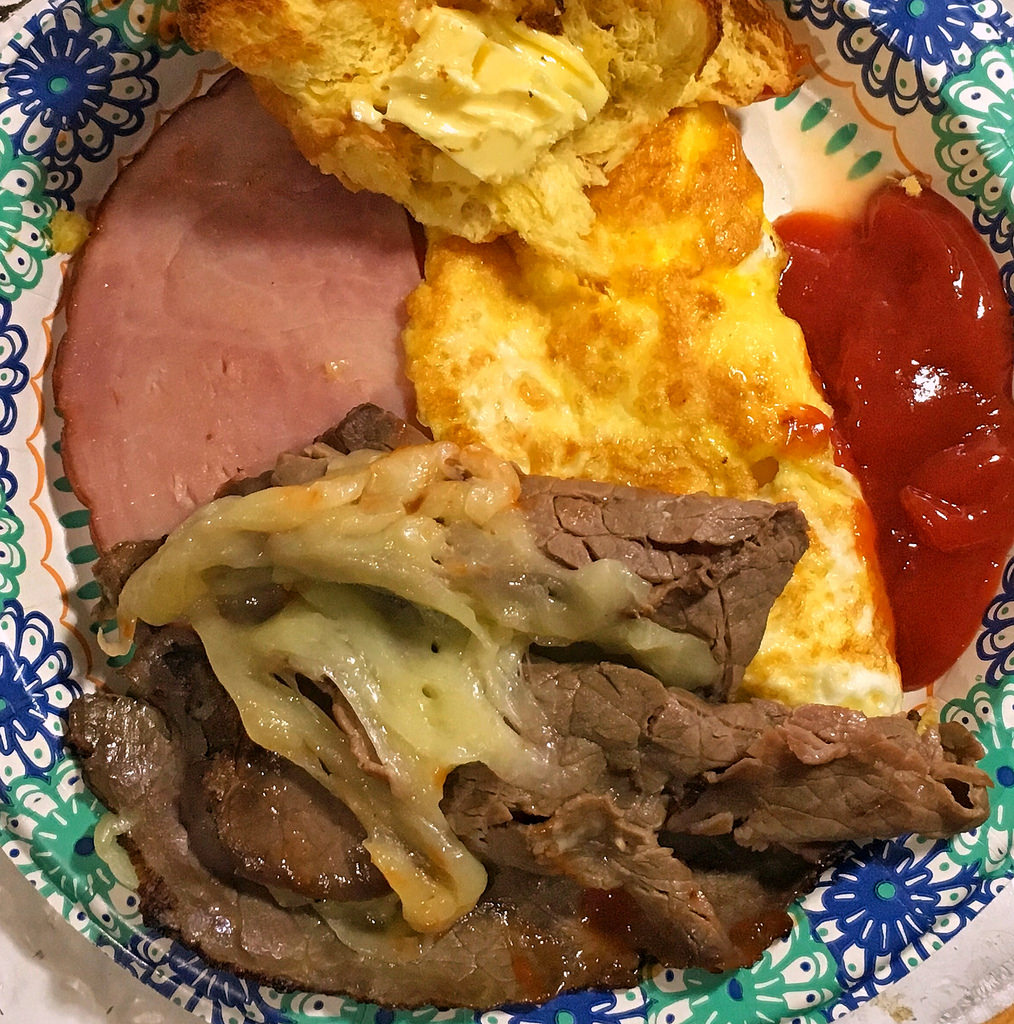fried egg: (514, 173, 827, 455)
